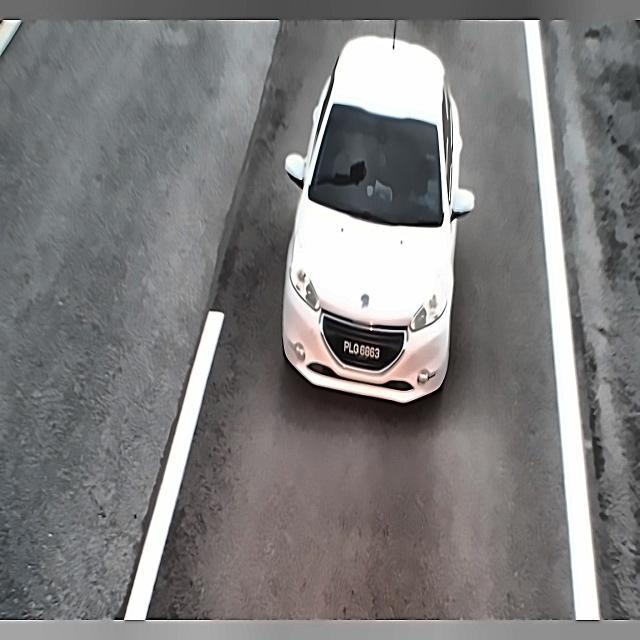car: (326, 331, 394, 374)
